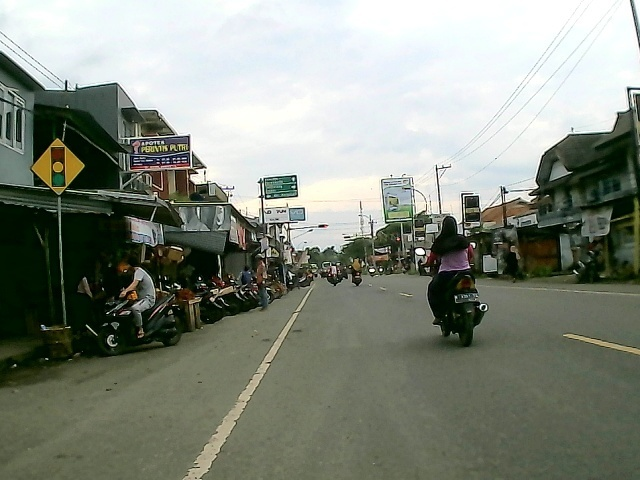Lampu isyarat: (26, 135, 89, 201)
